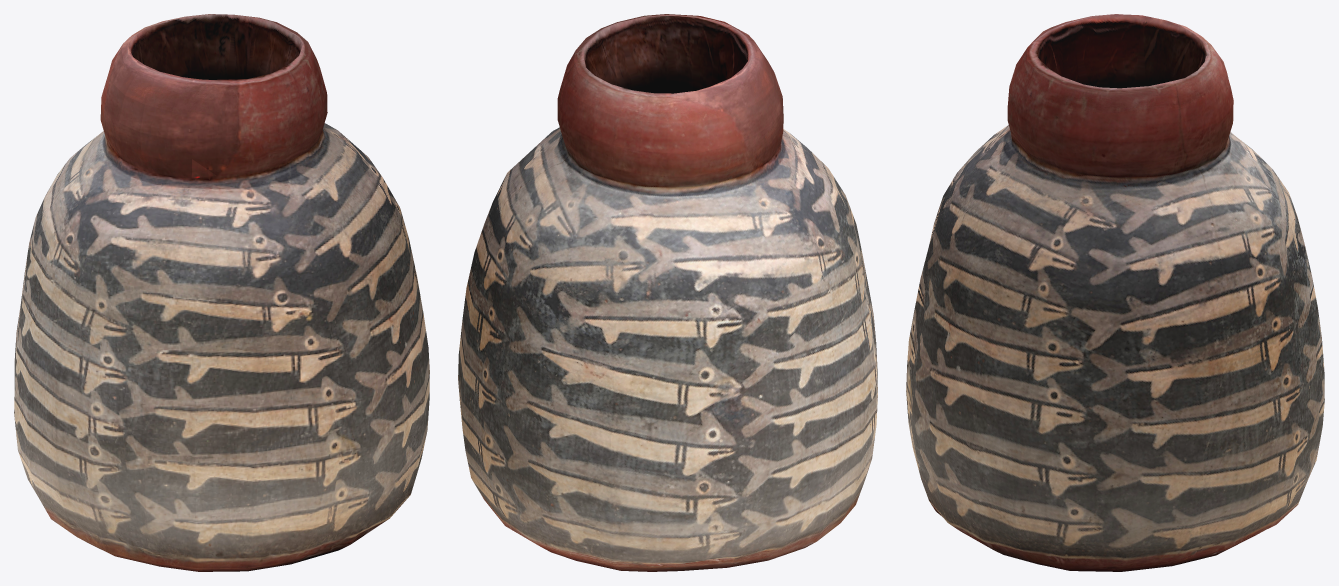
File: objeto_15_nasca.glb
3 renders of one model, left to right at view 1: azimuth 30°, elevation 25°; view 2: azimuth 150°, elevation 25°; view 3: azimuth 270°, elevation 25°, orthographic.
Parts seen in each view (by area): view 1: Box001; view 2: Box001; view 3: Box001.
Part boxes in pixels (bbox=[...]): Box001: bbox=[14, 14, 429, 571]; Box001: bbox=[458, 14, 877, 571]; Box001: bbox=[906, 14, 1324, 571].
Size of the model in its own units: 79.11 by 94.65 by 79.48.
1 material, 1 textured.
